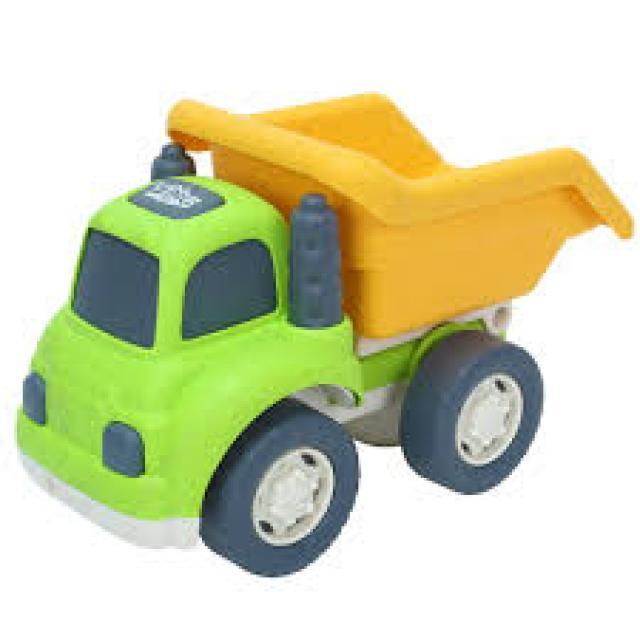hard-toy: (17, 95, 634, 575)
